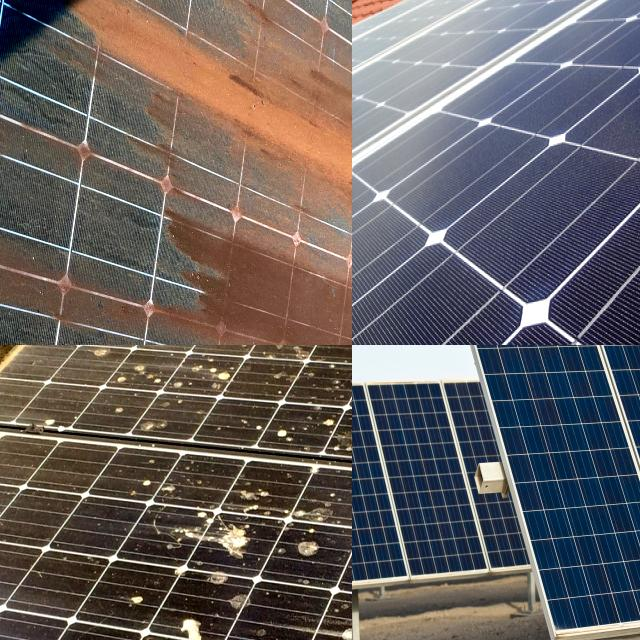bird: (174, 492, 260, 556), (177, 597, 222, 640), (312, 406, 352, 447), (115, 576, 154, 616), (290, 537, 328, 569), (267, 411, 295, 454), (196, 360, 235, 386), (196, 566, 240, 584), (327, 616, 352, 640)
crack: (458, 345, 640, 640), (356, 370, 498, 615), (574, 345, 640, 640), (352, 379, 424, 629), (352, 397, 414, 622)
dust: (223, 0, 352, 117), (65, 0, 193, 115), (0, 234, 170, 318), (171, 281, 352, 345), (401, 0, 589, 57), (256, 155, 352, 249), (352, 70, 395, 229), (0, 128, 139, 174)
